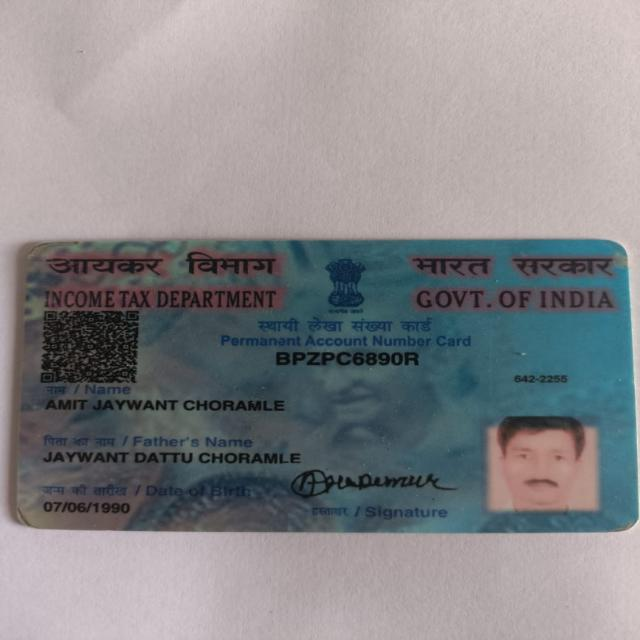pan_card: (16, 241, 637, 530)
